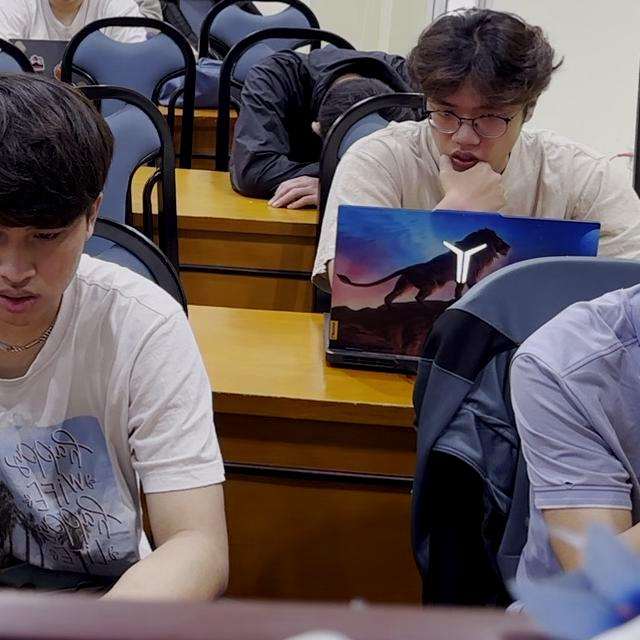Looking away: (228, 53, 430, 207), (0, 214, 89, 331), (425, 96, 519, 178)
